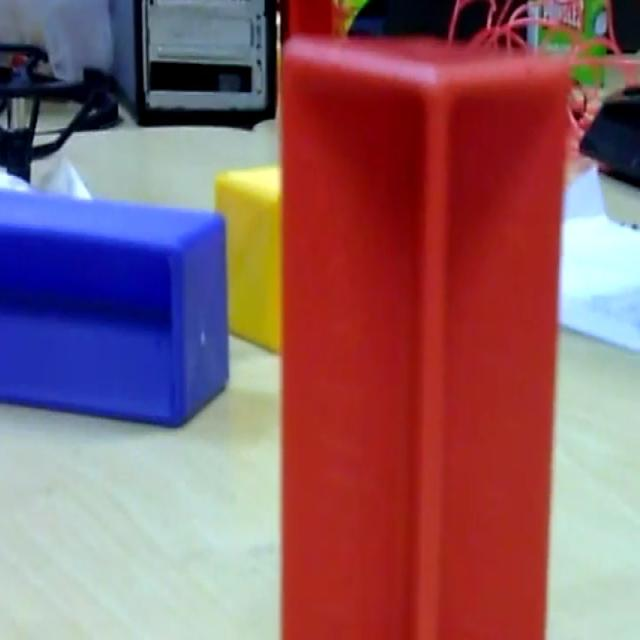blue_block: (0, 177, 230, 428)
red_block: (278, 32, 570, 636)
yellow_block: (213, 161, 283, 355)
